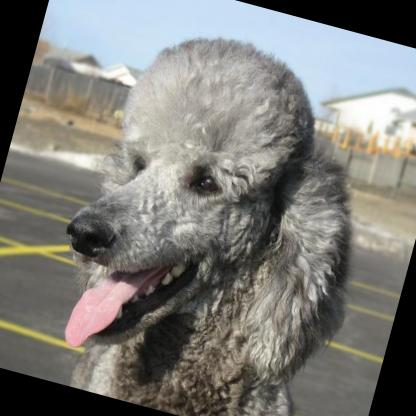standard_poodle: (21, 3, 413, 416)
